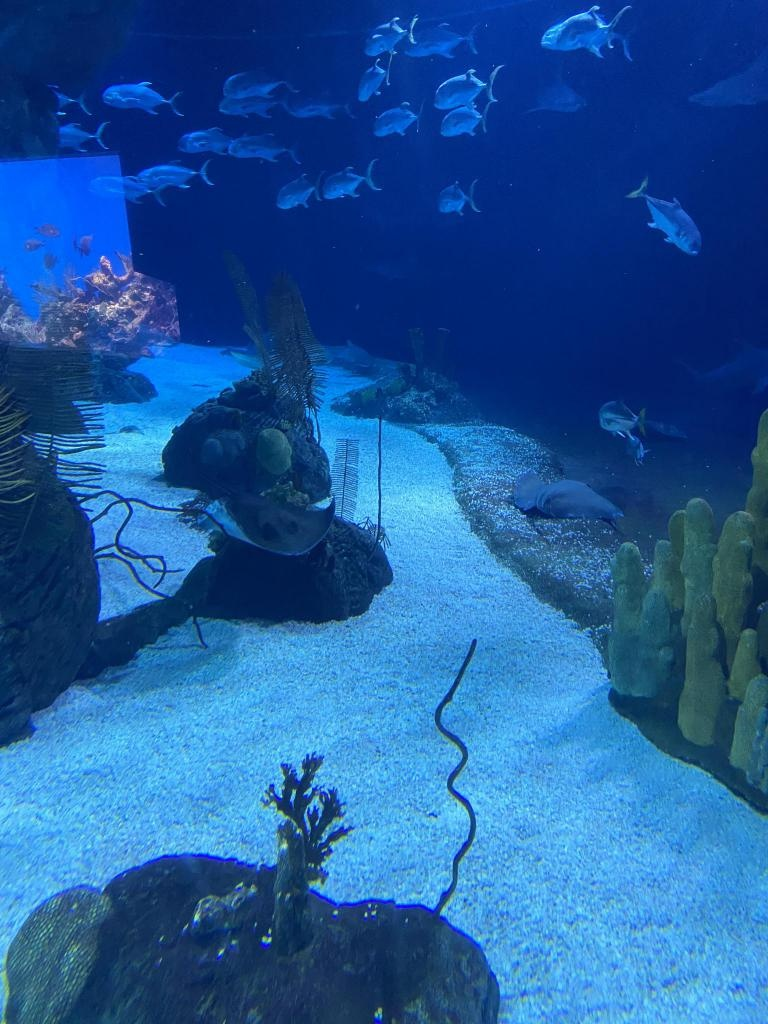fish: (627, 175, 703, 257), (541, 5, 647, 59), (434, 64, 504, 110), (556, 6, 632, 48), (102, 82, 186, 116), (404, 24, 480, 58), (90, 174, 170, 206), (224, 66, 298, 100), (323, 158, 383, 198), (136, 158, 216, 188), (230, 130, 300, 164), (598, 389, 644, 439), (288, 88, 356, 120), (440, 100, 496, 136), (373, 98, 426, 136), (276, 169, 326, 209), (359, 50, 395, 102), (219, 93, 294, 117), (437, 177, 480, 217), (364, 24, 416, 56), (178, 126, 232, 156), (59, 122, 109, 152), (48, 84, 92, 116), (324, 339, 374, 367), (621, 434, 651, 466)
shark: (675, 332, 768, 404), (689, 46, 767, 108), (522, 52, 592, 116)
stingray: (198, 492, 336, 556), (514, 471, 624, 519)
